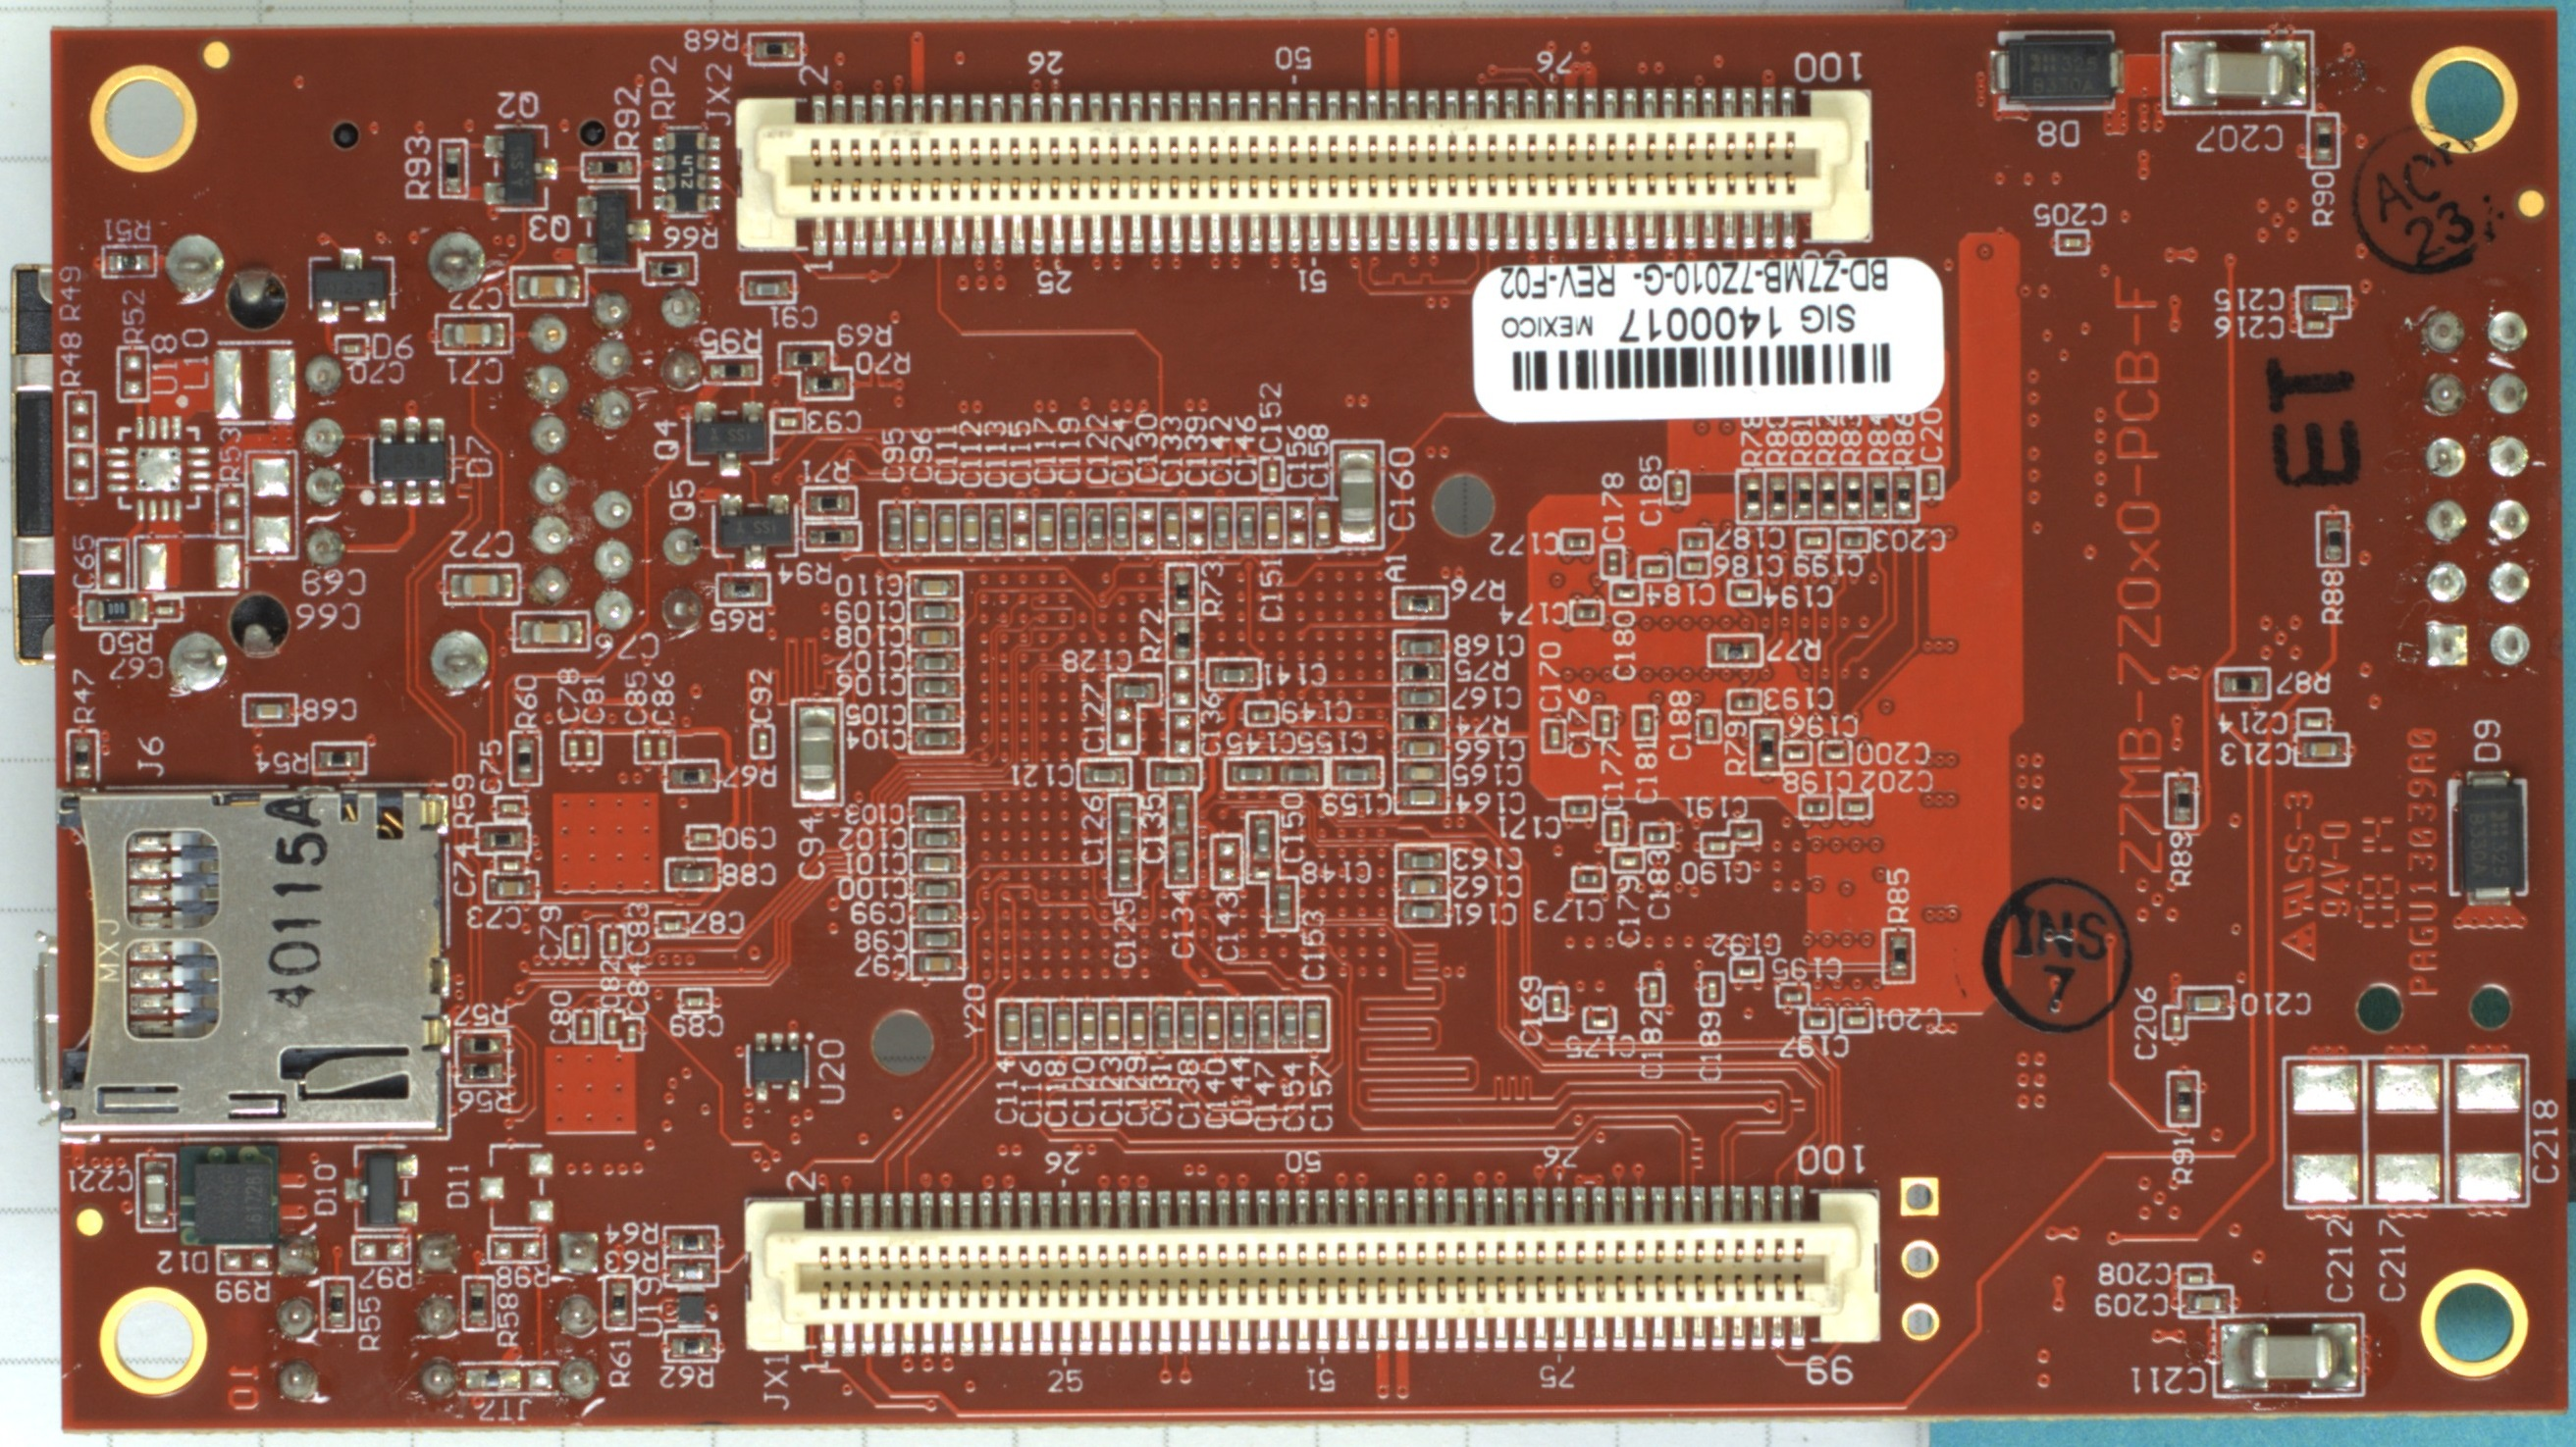capacitor C100: (915, 879, 959, 900)
capacitor C101: (913, 854, 957, 876)
capacitor C102: (915, 830, 959, 849)
capacitor C103: (915, 803, 959, 824)
capacitor C104: (913, 727, 957, 748)
capacitor C105: (913, 704, 957, 723)
capacitor C106: (913, 678, 957, 699)
capacitor C107: (913, 653, 957, 674)
capacitor C108: (911, 626, 955, 647)
capacitor C109: (913, 603, 957, 623)
capacitor C110: (911, 577, 957, 596)
capacitor C111: (936, 506, 955, 550)
capacitor C112: (961, 508, 980, 552)
capacitor C113: (985, 506, 1007, 550)
capacitor C114: (1001, 1005, 1024, 1049)
capacitor C116: (1026, 1005, 1047, 1049)
capacitor C117: (1037, 506, 1056, 550)
capacitor C118: (1049, 1005, 1072, 1049)
capacitor C119: (1062, 506, 1081, 550)
capacitor C120: (1076, 1005, 1099, 1049)
capacitor C121: (1083, 766, 1127, 785)
capacitor C122: (1086, 506, 1106, 550)
capacitor C123: (1100, 1005, 1123, 1049)
capacitor C124: (1111, 504, 1132, 548)
capacitor C125: (1113, 846, 1134, 892)
capacitor C126: (1115, 800, 1136, 842)
capacitor C128: (1113, 679, 1157, 702)
capacitor C129: (1125, 1005, 1148, 1049)
capacitor C131: (1152, 1005, 1173, 1049)
capacitor C133: (1162, 504, 1182, 548)
capacitor C134: (1171, 838, 1192, 883)
capacitor C135: (1169, 792, 1191, 838)
capacitor C138: (1177, 1003, 1200, 1047)
capacitor C140: (1201, 1005, 1224, 1049)
capacitor C141: (1210, 665, 1258, 685)
capacitor C142: (1212, 504, 1231, 548)
capacitor C144: (1226, 1003, 1249, 1047)
capacitor C145: (1228, 762, 1274, 785)
capacitor C146: (1237, 502, 1256, 547)
capacitor C147: (1251, 1003, 1274, 1047)
capacitor C148: (1253, 867, 1272, 883)
capacitor C149: (1249, 708, 1272, 723)
capacitor C150: (1253, 817, 1272, 863)
capacitor C151: (1261, 504, 1281, 548)
capacitor C152: (1265, 462, 1279, 486)
capacitor C153: (1272, 883, 1292, 929)
capacitor C154: (1277, 1003, 1300, 1047)
capacitor C155: (1276, 762, 1322, 785)
capacitor C157: (1300, 1003, 1323, 1047)
capacitor C158: (1313, 504, 1332, 548)
capacitor C159: (1334, 762, 1378, 784)
capacitor C160: (1336, 444, 1378, 545)
capacitor C161: (1399, 902, 1444, 923)
capacitor C162: (1399, 876, 1444, 897)
capacitor C163: (1401, 851, 1445, 870)
capacitor C164: (1399, 787, 1444, 808)
capacitor C165: (1398, 762, 1444, 784)
capacitor C166: (1398, 736, 1444, 757)
capacitor C167: (1398, 688, 1442, 708)
capacitor C168: (1398, 635, 1444, 656)
capacitor C169: (1550, 991, 1564, 1017)
capacitor C170: (1546, 725, 1560, 748)
capacitor C171: (1566, 803, 1591, 817)
capacitor C172: (1564, 536, 1587, 552)
capacitor C173: (1576, 870, 1601, 888)
capacitor C174: (1575, 607, 1598, 619)
capacitor C175: (1587, 1014, 1612, 1030)
capacitor C177: (1596, 713, 1614, 736), (1608, 815, 1621, 842)
capacitor C178: (1606, 552, 1619, 573)
capacitor C179: (1617, 853, 1640, 869)
capacitor C180: (1614, 587, 1637, 600)
capacitor C181: (1637, 711, 1652, 736)
capacitor C182: (1645, 978, 1660, 1003)
capacitor C183: (1644, 828, 1668, 842)
capacitor C184: (1644, 563, 1665, 577)
capacitor C185: (1668, 478, 1684, 501)
capacitor C186: (1683, 559, 1707, 573)
capacitor C187: (1684, 534, 1704, 552)
capacitor C188: (1700, 716, 1718, 739)
capacitor C189: (1704, 978, 1720, 1003)
capacitor C190: (1704, 838, 1729, 853)
capacitor C191: (1732, 826, 1755, 840)
capacitor C192: (1736, 962, 1759, 978)
capacitor C193: (1730, 695, 1757, 709)
capacitor C194: (1730, 587, 1757, 603)
capacitor C195: (1782, 987, 1803, 1005)
capacitor C196: (1783, 746, 1808, 761)
capacitor C197: (1806, 1014, 1828, 1030)
capacitor C198: (1801, 800, 1829, 815)
capacitor C199: (1801, 534, 1824, 548)
capacitor C20: (1925, 472, 1939, 495)
capacitor C200: (1822, 745, 1847, 762)
capacitor C201: (1844, 1012, 1868, 1028)
capacitor C202: (1844, 798, 1868, 815)
capacitor C203: (1842, 532, 1865, 548)
capacitor C205: (2061, 235, 2084, 251)
capacitor C206: (2167, 1010, 2181, 1037)
capacitor C207: (2167, 39, 2309, 110)
capacitor C208: (2183, 1270, 2206, 1284)
capacitor C209: (2181, 1291, 2231, 1314)
capacitor C210: (2183, 992, 2229, 1014)
capacitor C211: (2217, 1320, 2360, 1392)
capacitor C213: (2296, 739, 2344, 761)
capacitor C214: (2300, 715, 2327, 729)
capacitor C215: (2302, 294, 2346, 313)
capacitor C216: (2304, 318, 2327, 331)
capacitor C221: (142, 1160, 172, 1228)
capacitor C67: (152, 603, 175, 617)
capacitor C68: (246, 701, 292, 723)
capacitor C70: (340, 343, 363, 354)
capacitor C71: (441, 320, 506, 347)
capacitor C72: (449, 571, 515, 600)
capacitor C73: (488, 876, 533, 899)
capacitor C74: (499, 858, 522, 874)
capacitor C75: (499, 803, 522, 815)
capacitor C76: (518, 617, 586, 646)
capacitor C77: (513, 271, 582, 299)
capacitor C78: (566, 736, 580, 761)
capacitor C79: (570, 930, 584, 953)
capacitor C80: (577, 1014, 593, 1038)
capacitor C81: (580, 736, 596, 761)
capacitor C82: (605, 1014, 617, 1040)
capacitor C83: (607, 930, 619, 953)
capacitor C84: (625, 1022, 639, 1045)
capacitor C85: (640, 738, 655, 761)
capacitor C86: (656, 736, 669, 759)
capacitor C87: (660, 918, 685, 936)
capacitor C88: (671, 865, 715, 886)
capacitor C89: (683, 994, 706, 1010)
capacitor C90: (690, 830, 715, 847)
capacitor C91: (745, 278, 791, 297)
capacitor C92: (755, 731, 770, 755)
capacitor C93: (777, 416, 798, 430)
capacitor C94: (796, 704, 839, 801)
capacitor C95: (885, 506, 904, 550)
capacitor C96: (911, 506, 931, 550)
capacitor C97: (916, 955, 959, 975)
capacitor C98: (915, 929, 959, 950)
capacitor C99: (915, 904, 959, 925)
capacitor unknown: (1152, 762, 1196, 787)
component text" "311 325 B330A: (2466, 805, 2518, 884), (2026, 48, 2098, 99)
component text" 000: (101, 600, 129, 619)
component text" 161728: (241, 1166, 267, 1235)
component text" 40115A: (264, 789, 329, 1014)
component text" 472: (678, 150, 695, 195)
component text" MXJ: (92, 911, 122, 989)
connector J6: (55, 780, 453, 1145)
connector JX1: (747, 1183, 1881, 1359)
connector JX2: (732, 88, 1874, 256)
connector unknown: (1897, 1171, 1944, 1346)
diode D10: (193, 1160, 274, 1244)
diode D11: (343, 1145, 419, 1233)
diode D6: (308, 246, 396, 327)
diode D7: (368, 416, 448, 506)
diode D8: (1987, 30, 2127, 115)
diode D9: (2447, 768, 2534, 904)
ic U19: (676, 1288, 711, 1328)
ic U20: (743, 1030, 810, 1102)
pads C115: (1012, 504, 1030, 550)
pads C127: (1113, 704, 1134, 750)
pads C130: (1136, 504, 1155, 550)
pads C136: (1173, 713, 1196, 757)
pads C139: (1187, 502, 1207, 550)
pads C143: (1215, 838, 1238, 884)
pads C156: (1288, 501, 1307, 548)
pads C212: (2288, 1063, 2362, 1206)
pads C217: (2371, 1063, 2440, 1203)
pads C218: (2452, 1060, 2525, 1203)
pads C65: (103, 543, 122, 589)
pads C66: (138, 541, 244, 591)
pads C69: (249, 456, 292, 555)
pads D11: (483, 1139, 556, 1235)
pads L10: (212, 347, 299, 421)
pads R48: (71, 451, 90, 495)
pads R49: (69, 394, 90, 442)
pads R52: (120, 352, 145, 396)
pads R53: (219, 490, 241, 534)
pads R97: (356, 1238, 407, 1263)
pads R98: (492, 1238, 541, 1259)
pads R99: (221, 1252, 271, 1272)
pads U18: (104, 416, 211, 524)
pads unknown: (1171, 663, 1191, 709)
pins unknown: (2419, 304, 2532, 670), (522, 287, 635, 632), (303, 356, 345, 573), (276, 1233, 320, 1406), (418, 1231, 462, 1405), (556, 1228, 600, 1401), (658, 525, 704, 633), (165, 226, 228, 302), (165, 626, 230, 695), (426, 626, 490, 695), (660, 287, 701, 393), (426, 230, 488, 290)
resistor R47: (71, 734, 94, 784)
resistor R50: (83, 596, 150, 624)
resistor R51: (106, 249, 150, 272)
resistor R54: (315, 748, 363, 768)
resistor R55: (327, 1281, 347, 1328)
resistor R56: (462, 1060, 504, 1083)
resistor R57: (460, 1037, 504, 1058)
resistor R58: (465, 1281, 488, 1325)
resistor R59: (481, 830, 525, 849)
resistor R60: (513, 736, 536, 780)
resistor R61: (605, 1281, 632, 1327)
resistor R62: (669, 1334, 713, 1360)
resistor R63: (667, 1261, 715, 1282)
resistor R64: (667, 1233, 711, 1252)
resistor R65: (720, 578, 766, 601)
resistor R66: (646, 258, 690, 278)
resistor R67: (669, 764, 715, 787)
resistor R68: (754, 37, 798, 62)
resistor R69: (784, 348, 828, 370)
resistor R70: (803, 373, 846, 394)
resistor R71: (809, 492, 851, 517)
resistor R72: (1171, 617, 1192, 660)
resistor R73: (1171, 568, 1191, 614)
resistor R74: (1398, 713, 1442, 732)
resistor R75: (1398, 662, 1442, 681)
resistor R76: (1398, 594, 1442, 616)
resistor R77: (1711, 640, 1759, 663)
resistor R78: (1743, 476, 1762, 518)
resistor R79: (1755, 725, 1778, 771)
resistor R80: (1767, 476, 1787, 518)
resistor R81: (1792, 474, 1813, 518)
resistor R82: (1817, 472, 1838, 520)
resistor R83: (1842, 472, 1861, 518)
resistor R84: (1868, 474, 1888, 518)
resistor R85: (1888, 932, 1909, 978)
resistor R86: (1891, 472, 1916, 518)
resistor R87: (2219, 674, 2265, 695)
resistor R88: (2321, 517, 2344, 561)
resistor R89: (2171, 778, 2192, 824)
resistor R90: (2312, 119, 2334, 165)
resistor R91: (2174, 1079, 2194, 1122)
resistor R92: (586, 157, 635, 177)
resistor R93: (442, 145, 462, 193)
resistor R94: (805, 529, 856, 545)
resistor R95: (706, 361, 755, 380)
resistor jumper" JT7: (464, 1367, 554, 1390)
resistor network" RP2: (653, 127, 720, 219)
text "94V-0: (2318, 815, 2353, 922)
text "AC 23: (2367, 140, 2477, 264)
text "INS 7: (2010, 900, 2111, 1019)
text "SIG 1400017 MEXICO BD-Z7MB-7Z010-G-REV-F02: (1497, 255, 1893, 345)
text "SS-3: (2281, 785, 2318, 876)
text "Z7MB-7Z0x0-PCB-F: (2105, 271, 2167, 879)
text 01: (223, 1362, 262, 1415)
text 0814: (2355, 810, 2404, 932)
text 1: (801, 256, 835, 278), (798, 1359, 832, 1380)
text 100: (1790, 1143, 1870, 1180), (1792, 50, 1868, 87)
text 2: (782, 1169, 823, 1194), (796, 62, 832, 88)
text 25: (1046, 1367, 1085, 1396), (1035, 267, 1072, 295)
text 26: (1024, 48, 1065, 80), (1040, 1148, 1085, 1176)
text 50: (1272, 42, 1313, 73), (1281, 1148, 1323, 1175)
text 51: (1304, 1364, 1339, 1396), (1295, 267, 1329, 295)
text 75: (1536, 1362, 1580, 1390)
text 76: (1532, 48, 1575, 78), (1539, 1143, 1582, 1169)
text 99: (1801, 1351, 1854, 1387)
text A1: (1384, 552, 1407, 584)
text C100: (837, 876, 908, 900)
text C101: (842, 851, 908, 876)
text C102: (835, 824, 909, 851)
text C103: (842, 801, 906, 826)
text C104: (846, 727, 908, 752)
text C105: (844, 704, 908, 727)
text C106: (835, 672, 908, 697)
text C107: (833, 649, 906, 672)
text C108: (833, 624, 904, 649)
text C109: (833, 600, 906, 624)
text C110: (833, 571, 904, 598)
text C111: (934, 421, 957, 486)
text C112: (957, 417, 982, 492)
text C113: (982, 416, 1008, 490)
text C114: (994, 1056, 1019, 1125)
text C115: (1007, 416, 1033, 488)
text C116: (1019, 1056, 1042, 1129)
text C117: (1031, 412, 1056, 486)
text C118: (1044, 1058, 1067, 1129)
text C119: (1056, 412, 1083, 486)
text C120: (1070, 1054, 1097, 1129)
text C121: (1008, 762, 1074, 789)
text C122: (1085, 410, 1109, 485)
text C123: (1099, 1056, 1123, 1129)
text C124: (1109, 414, 1134, 488)
text C125: (2212, 285, 2286, 313), (1111, 897, 1138, 969)
text C126: (2212, 313, 2286, 341), (1079, 794, 1104, 867)
text C127: (1079, 679, 1106, 754)
text C128: (1060, 647, 1134, 672)
text C129: (1123, 1054, 1146, 1129)
text C130: (1134, 410, 1161, 483)
text C131: (1148, 1063, 1173, 1129)
text C133: (1159, 412, 1184, 486)
text C134: (1169, 888, 1196, 961)
text C135: (1141, 792, 1164, 867)
text C136: (1200, 693, 1223, 757)
text C138: (1175, 1056, 1200, 1130)
text C139: (1184, 414, 1208, 488)
text C140: (1201, 1056, 1228, 1132)
text C141: (1263, 662, 1330, 688)
text C142: (1208, 414, 1233, 488)
text C143: (1214, 892, 1240, 964)
text C144: (1226, 1054, 1253, 1129)
text C145: (1224, 731, 1297, 755)
text C146: (1233, 412, 1258, 486)
text C147: (1251, 1058, 1277, 1136)
text C148: (1300, 858, 1375, 888)
text C149: (1279, 699, 1352, 725)
text C150: (1279, 791, 1306, 865)
text C151: (1258, 557, 1286, 624)
text C152: (1258, 380, 1283, 453)
text C153: (1300, 909, 1327, 982)
text C154: (1279, 1058, 1307, 1134)
text C155: (1297, 729, 1369, 754)
text C156: (1284, 421, 1307, 490)
text C157: (1309, 1058, 1334, 1134)
text C158: (1306, 419, 1330, 488)
text C159: (1320, 791, 1392, 819)
text C160: (1387, 444, 1415, 531)
text C161: (1453, 902, 1520, 929)
text C162: (1451, 874, 1523, 902)
text C163: (1451, 847, 1523, 872)
text C164: (1453, 791, 1527, 815)
text C165: (1451, 762, 1523, 787)
text C166: (1453, 739, 1529, 762)
text C167: (1451, 686, 1523, 711)
text C168: (1453, 632, 1527, 658)
text C169: (1518, 975, 1543, 1049)
text C170: (1536, 640, 1564, 715)
text C171: (1497, 815, 1560, 842)
text C172: (1486, 531, 1559, 555)
text C173: (1532, 897, 1605, 925)
text C174: (1495, 601, 1568, 628)
text C175: (1564, 1035, 1637, 1063)
text C176: (1566, 686, 1592, 761)
text C177: (1599, 741, 1624, 810)
text C178: (1599, 469, 1628, 543)
text C179: (1615, 876, 1642, 950)
text C180: (1610, 610, 1637, 681)
text C181: (1635, 741, 1660, 805)
text C182: (1638, 1008, 1665, 1081)
text C183: (1645, 849, 1672, 920)
text C184: (1645, 582, 1716, 609)
text C185: (1637, 453, 1665, 527)
text C186: (1713, 554, 1785, 578)
text C187: (1716, 527, 1787, 552)
text C188: (1667, 688, 1693, 761)
text C189: (1697, 1010, 1723, 1084)
text C190: (1679, 858, 1753, 886)
text C191: (1683, 794, 1748, 819)
text C192: (1711, 932, 1782, 957)
text C193: (1764, 686, 1835, 713)
text C194: (1762, 584, 1835, 612)
text C195: (1771, 957, 1844, 982)
text C196: (1789, 713, 1859, 739)
text C197: (1778, 1035, 1851, 1060)
text C198: (1782, 769, 1854, 792)
text C199: (1790, 554, 1865, 578)
text C20: (1918, 407, 1944, 463)
text C200: (1856, 739, 1932, 766)
text C201: (1874, 1005, 1943, 1035)
text C202: (1858, 768, 1936, 794)
text C203: (1872, 527, 1948, 554)
text C205: (2031, 200, 2109, 228)
text C206: (2132, 984, 2158, 1061)
text C207: (2192, 122, 2286, 156)
text C208: (2097, 1259, 2173, 1288)
text C209: (2093, 1291, 2169, 1318)
text C210: (2238, 991, 2314, 1019)
text C211: (2128, 1364, 2206, 1397)
text C212: (2323, 1217, 2357, 1305)
text C213: (2219, 739, 2293, 768)
text C214: (2215, 711, 2291, 736)
text C217: (2374, 1215, 2408, 1304)
text C218: (2530, 1097, 2562, 1187)
text C221: (62, 1166, 133, 1194)
text C65: (71, 532, 96, 591)
text C66: (294, 601, 363, 633)
text C67: (106, 655, 165, 683)
text C68: (301, 697, 361, 723)
text C69: (299, 566, 370, 600)
text C70: (349, 359, 407, 387)
text C71: (444, 356, 508, 387)
text C72: (446, 529, 517, 561)
text C73: (464, 904, 524, 932)
text C74: (451, 840, 478, 899)
text C75: (476, 736, 504, 794)
text C76: (594, 630, 662, 663)
text C77: (446, 281, 504, 311)
text C78: (554, 665, 580, 723)
text C79: (538, 902, 563, 961)
text C80: (548, 989, 571, 1044)
text C81: (580, 672, 607, 725)
text C82: (598, 961, 621, 1008)
text C83: (626, 900, 649, 959)
text C84: (625, 959, 651, 1017)
text C85: (621, 670, 649, 727)
text C86: (649, 669, 676, 727)
text C87: (690, 911, 747, 936)
text C88: (722, 861, 777, 888)
text C89: (667, 1014, 725, 1038)
text C90: (722, 823, 777, 851)
text C91: (768, 304, 819, 331)
text C92: (747, 667, 775, 723)
text C93: (805, 409, 863, 435)
text C94: (794, 814, 828, 883)
text C95: (879, 425, 908, 483)
text C96: (908, 425, 934, 483)
text C97: (855, 953, 909, 976)
text C98: (851, 929, 909, 953)
text C99: (847, 900, 908, 927)
text D10: (310, 1160, 338, 1219)
text D11: (444, 1159, 472, 1212)
text D12: (154, 1249, 211, 1277)
text D6: (372, 331, 416, 361)
text D7: (464, 432, 495, 481)
text D8: (2035, 119, 2082, 150)
text D9: (2472, 716, 2505, 766)
text ET: (2258, 354, 2367, 492)
text J17: (478, 1396, 533, 1424)
text J6: (133, 734, 166, 782)
text JX1: (761, 1353, 793, 1415)
text JX2: (702, 60, 732, 129)
text L10: (182, 325, 211, 394)
text PAGU13039A0: (2403, 723, 2443, 1001)
text Q2: (495, 87, 541, 122)
text Q3: (527, 212, 571, 244)
text Q4: (651, 416, 681, 463)
text Q5: (665, 474, 697, 520)
text R47: (69, 667, 96, 725)
text R48: (57, 329, 83, 389)
text R49: (57, 264, 83, 324)
text R50: (97, 630, 154, 656)
text R51: (101, 216, 152, 244)
text R52: (119, 287, 147, 345)
text R53: (218, 426, 242, 481)
text R54: (253, 748, 310, 780)
text R55: (354, 1293, 382, 1353)
text R56: (455, 1088, 513, 1116)
text R57: (451, 1001, 510, 1028)
text R58: (495, 1291, 520, 1346)
text R59: (451, 771, 476, 830)
text R60: (513, 672, 538, 731)
text R61: (605, 1337, 633, 1389)
text R62: (658, 1364, 717, 1392)
text R63: (603, 1247, 660, 1275)
text R64: (600, 1219, 660, 1245)
text R65: (708, 607, 766, 635)
text R66: (660, 223, 722, 251)
text R67: (722, 762, 777, 791)
text R68: (685, 28, 741, 57)
text R69: (833, 320, 893, 348)
text R70: (855, 348, 913, 379)
text R71: (800, 458, 853, 486)
text R72: (1136, 607, 1164, 663)
text R73: (1200, 559, 1226, 617)
text R74: (1453, 713, 1511, 738)
text R75: (1453, 658, 1511, 685)
text R76: (1449, 577, 1507, 605)
text R77: (1766, 635, 1824, 663)
text R78: (1739, 412, 1764, 465)
text R79: (1723, 718, 1748, 777)
text R80: (1764, 410, 1789, 465)
text R81: (1789, 416, 1813, 465)
text R82: (1815, 410, 1836, 467)
text R83: (1838, 410, 1863, 465)
text R84: (1867, 410, 1890, 465)
text R85: (1882, 867, 1911, 925)
text R86: (1891, 410, 1916, 465)
text R87: (2275, 669, 2332, 697)
text R88: (2318, 570, 2346, 626)
text R89: (2167, 831, 2194, 888)
text R90: (2309, 170, 2337, 230)
text R91: (2171, 1136, 2196, 1185)
text R92: (610, 85, 642, 150)
text R93: (402, 133, 433, 203)
text R94: (775, 559, 835, 589)
text R95: (697, 325, 766, 354)
text R97: (357, 1265, 416, 1291)
text R98: (495, 1265, 552, 1290)
text R99: (214, 1279, 272, 1305)
text RP2: (648, 51, 678, 122)
text U18: (150, 331, 179, 398)
text U19: (637, 1275, 662, 1339)
text U20: (814, 1035, 847, 1107)
text Y20: (961, 982, 985, 1040)
transistor Q2: (483, 124, 559, 212)
transistor Q3: (573, 186, 649, 274)
transistor Q4: (686, 398, 766, 474)
transistor Q5: (709, 492, 801, 570)
